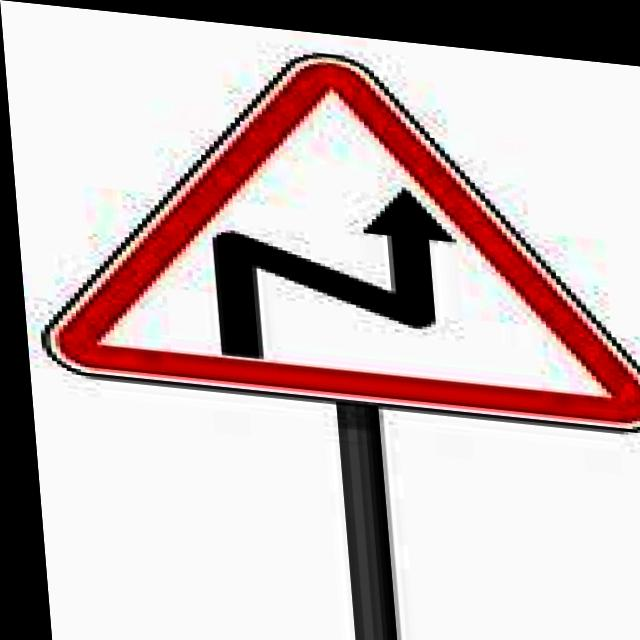RIGHT_REVERSE_BEND: (10, 15, 640, 428)
